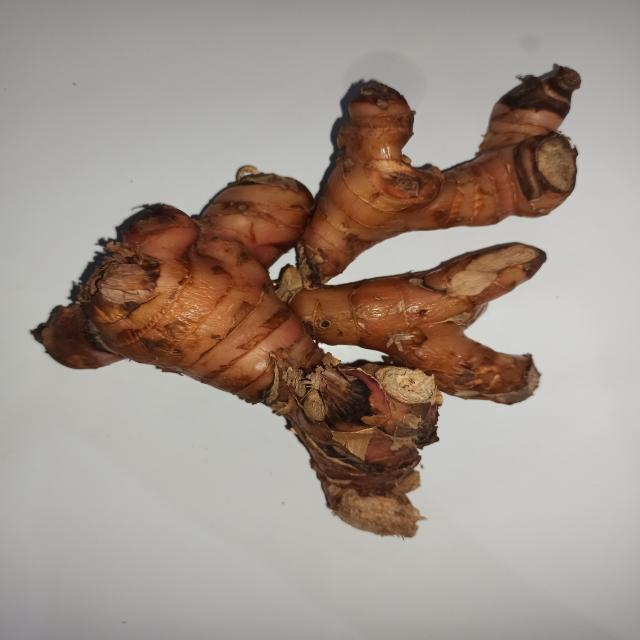ginger: (47, 79, 576, 510)
